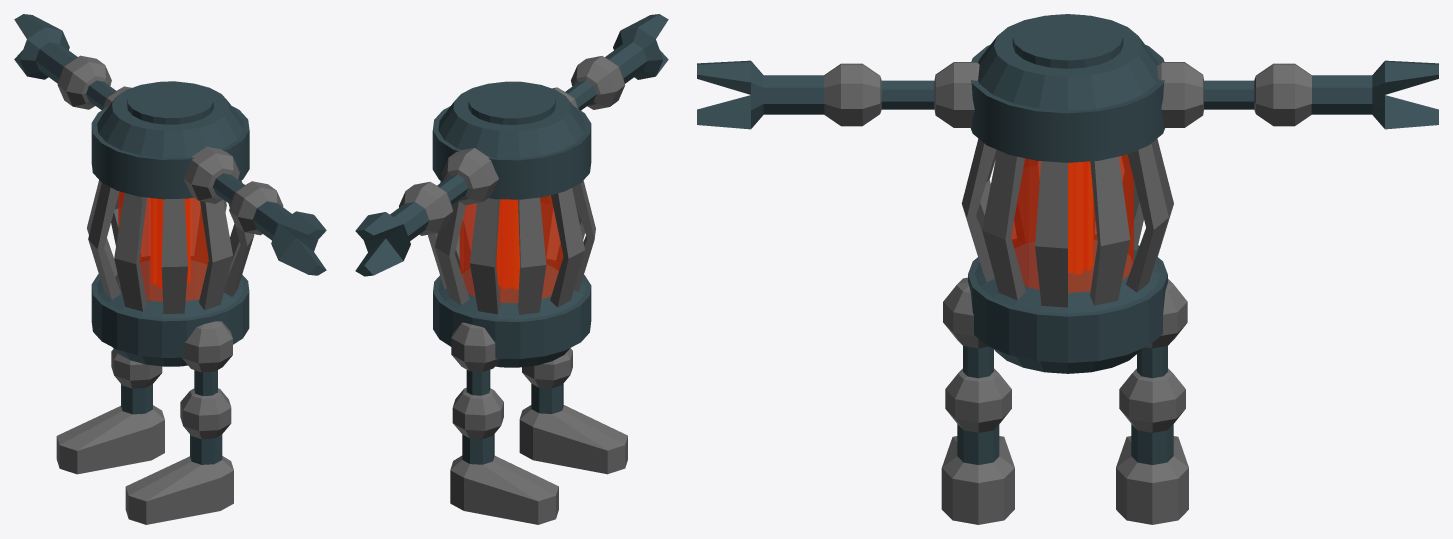
Rendered from MiniRobot.fbx.
The picture shows the model from 3 angles, left to right: view 1: azimuth 30°, elevation 25°; view 2: azimuth 150°, elevation 25°; view 3: azimuth 270°, elevation 25°; orthographic projection. The views are drawn at different scales.
Visible parts, largest first — view 1: pCylinder1, polySurface13, polySurface15, polySurface7, polySurface10, polySurface3, polySurface9, polySurface11; view 2: pCylinder1, polySurface15, polySurface13, polySurface10, polySurface7, polySurface11, polySurface14, polySurface9; view 3: pCylinder1, polySurface13, polySurface15, polySurface7, polySurface10, polySurface11, polySurface9, polySurface3, polySurface14.
Part boxes in pixels (x1=…): pCylinder1: x1=87, y1=81, x2=254, y2=366; polySurface13: x1=125, y1=388, x2=233, y2=524; polySurface15: x1=56, y1=349, x2=164, y2=474; polySurface7: x1=229, y1=181, x2=326, y2=275; polySurface10: x1=14, y1=14, x2=111, y2=109; polySurface3: x1=182, y1=321, x2=232, y2=395; polySurface9: x1=183, y1=146, x2=244, y2=204; polySurface11: x1=86, y1=80, x2=131, y2=110; pCylinder1: x1=428, y1=81, x2=595, y2=367; polySurface15: x1=450, y1=388, x2=558, y2=524; polySurface13: x1=519, y1=348, x2=627, y2=474; polySurface10: x1=355, y1=181, x2=452, y2=276; polySurface7: x1=571, y1=14, x2=668, y2=109; polySurface11: x1=437, y1=148, x2=498, y2=205; polySurface14: x1=451, y1=322, x2=501, y2=395; polySurface9: x1=552, y1=80, x2=596, y2=110; pCylinder1: x1=961, y1=14, x2=1173, y2=373; polySurface13: x1=941, y1=368, x2=1014, y2=524; polySurface15: x1=1116, y1=368, x2=1188, y2=524; polySurface7: x1=697, y1=60, x2=881, y2=129; polySurface10: x1=1254, y1=60, x2=1438, y2=129; polySurface11: x1=1157, y1=62, x2=1254, y2=127; polySurface9: x1=881, y1=62, x2=979, y2=127; polySurface3: x1=943, y1=277, x2=993, y2=378; polySurface14: x1=1137, y1=279, x2=1187, y2=378.
Bounding box in the file's own units: 2.35 × 5.6 × 7.97.
